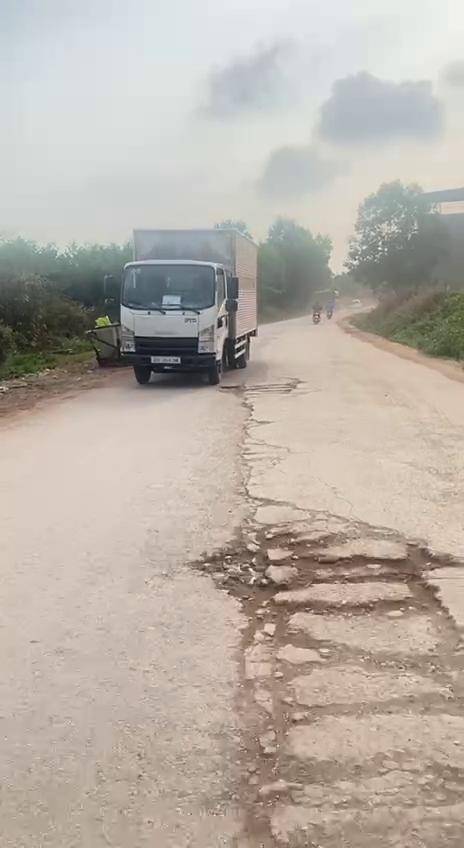pothole: (190, 503, 461, 682), (215, 677, 464, 848)
